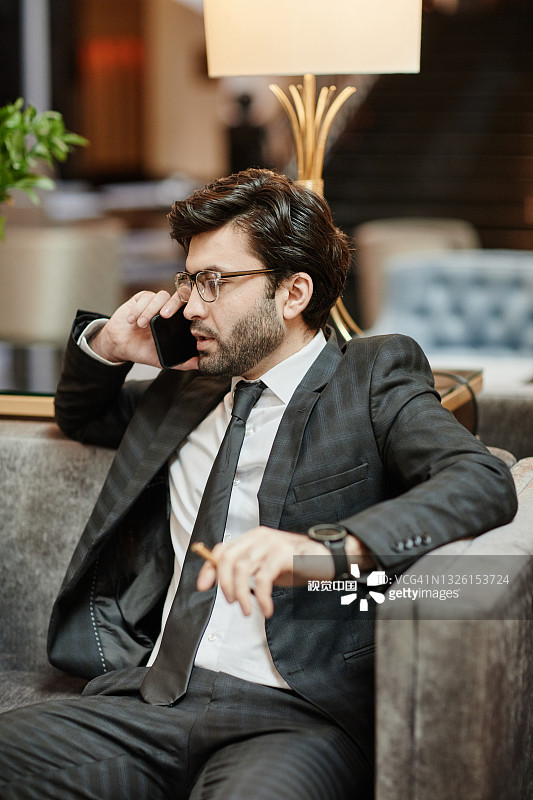calling: (81, 272, 204, 385)
